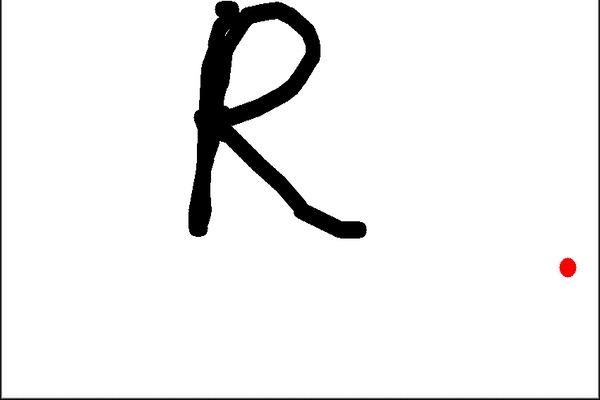R: (176, 2, 372, 246)
